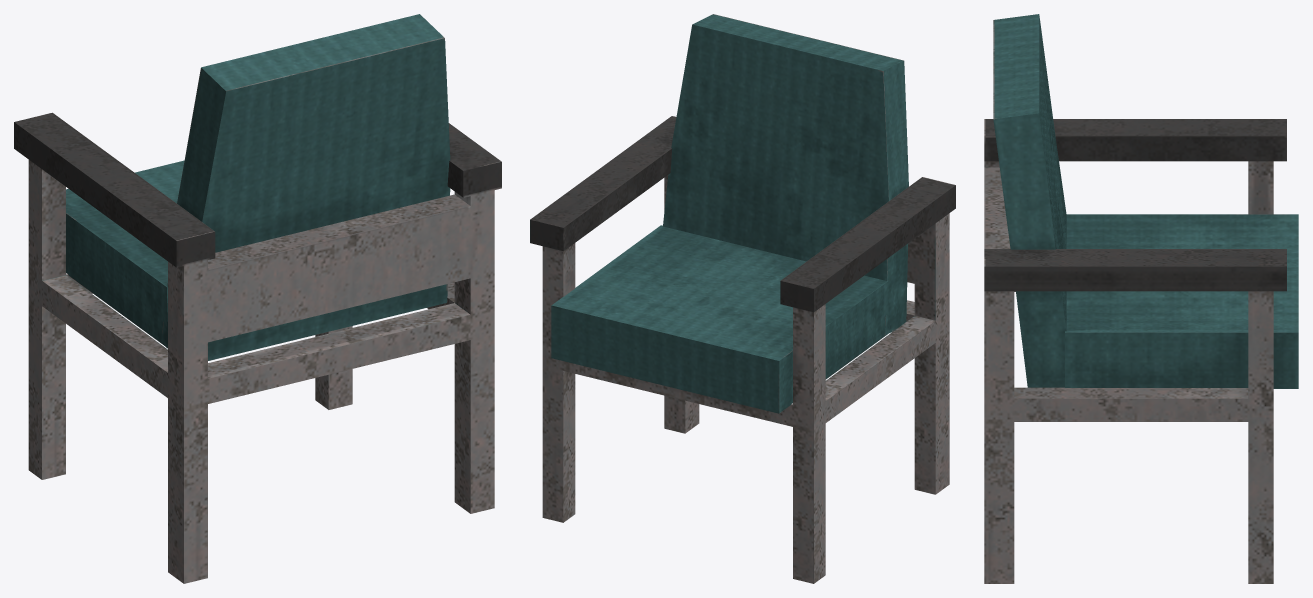
The model's file is SM_WaitingChair.fbx.
3 views of the same model, side by side, from view 1: azimuth 30°, elevation 25°; view 2: azimuth 150°, elevation 25°; view 3: azimuth 270°, elevation 25° (orthographic). The views are drawn at different scales.
Parts seen in each view (by area): view 1: SM_WaitingChair; view 2: SM_WaitingChair; view 3: SM_WaitingChair.
Part boxes in pixels (x1,y1,x2,y2): SM_WaitingChair: (14, 14, 501, 583); SM_WaitingChair: (530, 14, 955, 583); SM_WaitingChair: (984, 14, 1298, 583).
Size of the model in its own units: 74.76 by 106 by 67.23.
